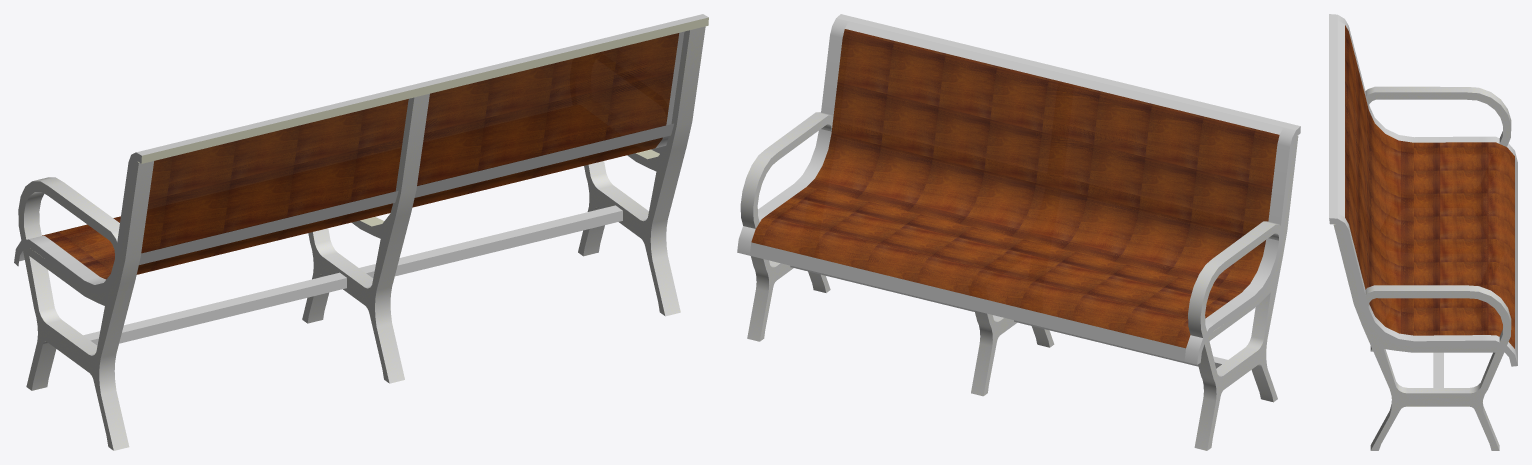
3 views of the same model, side by side, from view 1: azimuth 30°, elevation 25°; view 2: azimuth 150°, elevation 25°; view 3: azimuth 270°, elevation 25° (orthographic). The views are drawn at different scales.
Visible parts, largest first — view 1: mesh9_mesh9-geometry, mesh1_mesh1-geometry, mesh10_mesh10-geometry, mesh11_mesh11-geometry, mesh7_mesh7-geometry, mesh6_mesh6-geometry, mesh5_mesh5-geometry; view 2: mesh9_mesh9-geometry, mesh1_mesh1-geometry, mesh7_mesh7-geometry, mesh6_mesh6-geometry, mesh5_mesh5-geometry, mesh10_mesh10-geometry; view 3: mesh9_mesh9-geometry, mesh1_mesh1-geometry, mesh7_mesh7-geometry, mesh5_mesh5-geometry, mesh6_mesh6-geometry, mesh10_mesh10-geometry.
Part boxes in pixels (bbox=[...]): mesh9_mesh9-geometry: bbox=[42, 17, 708, 279]; mesh1_mesh1-geometry: bbox=[23, 26, 705, 450]; mesh10_mesh10-geometry: bbox=[83, 205, 622, 345]; mesh11_mesh11-geometry: bbox=[139, 123, 673, 264]; mesh7_mesh7-geometry: bbox=[18, 177, 119, 256]; mesh6_mesh6-geometry: bbox=[14, 148, 156, 293]; mesh5_mesh5-geometry: bbox=[651, 14, 708, 153]; mesh9_mesh9-geometry: bbox=[749, 17, 1287, 361]; mesh1_mesh1-geometry: bbox=[747, 135, 1298, 450]; mesh7_mesh7-geometry: bbox=[740, 112, 1280, 337]; mesh6_mesh6-geometry: bbox=[1184, 123, 1300, 364]; mesh5_mesh5-geometry: bbox=[737, 14, 852, 255]; mesh10_mesh10-geometry: bbox=[790, 265, 1227, 368]; mesh9_mesh9-geometry: bbox=[1329, 19, 1517, 359]; mesh1_mesh1-geometry: bbox=[1333, 224, 1504, 450]; mesh7_mesh7-geometry: bbox=[1365, 86, 1511, 345]; mesh5_mesh5-geometry: bbox=[1329, 212, 1517, 366]; mesh6_mesh6-geometry: bbox=[1329, 14, 1517, 166]; mesh10_mesh10-geometry: bbox=[1433, 352, 1443, 387].
Bounding box in the file's own units: 0.8346 × 0.4441 × 0.3261.
